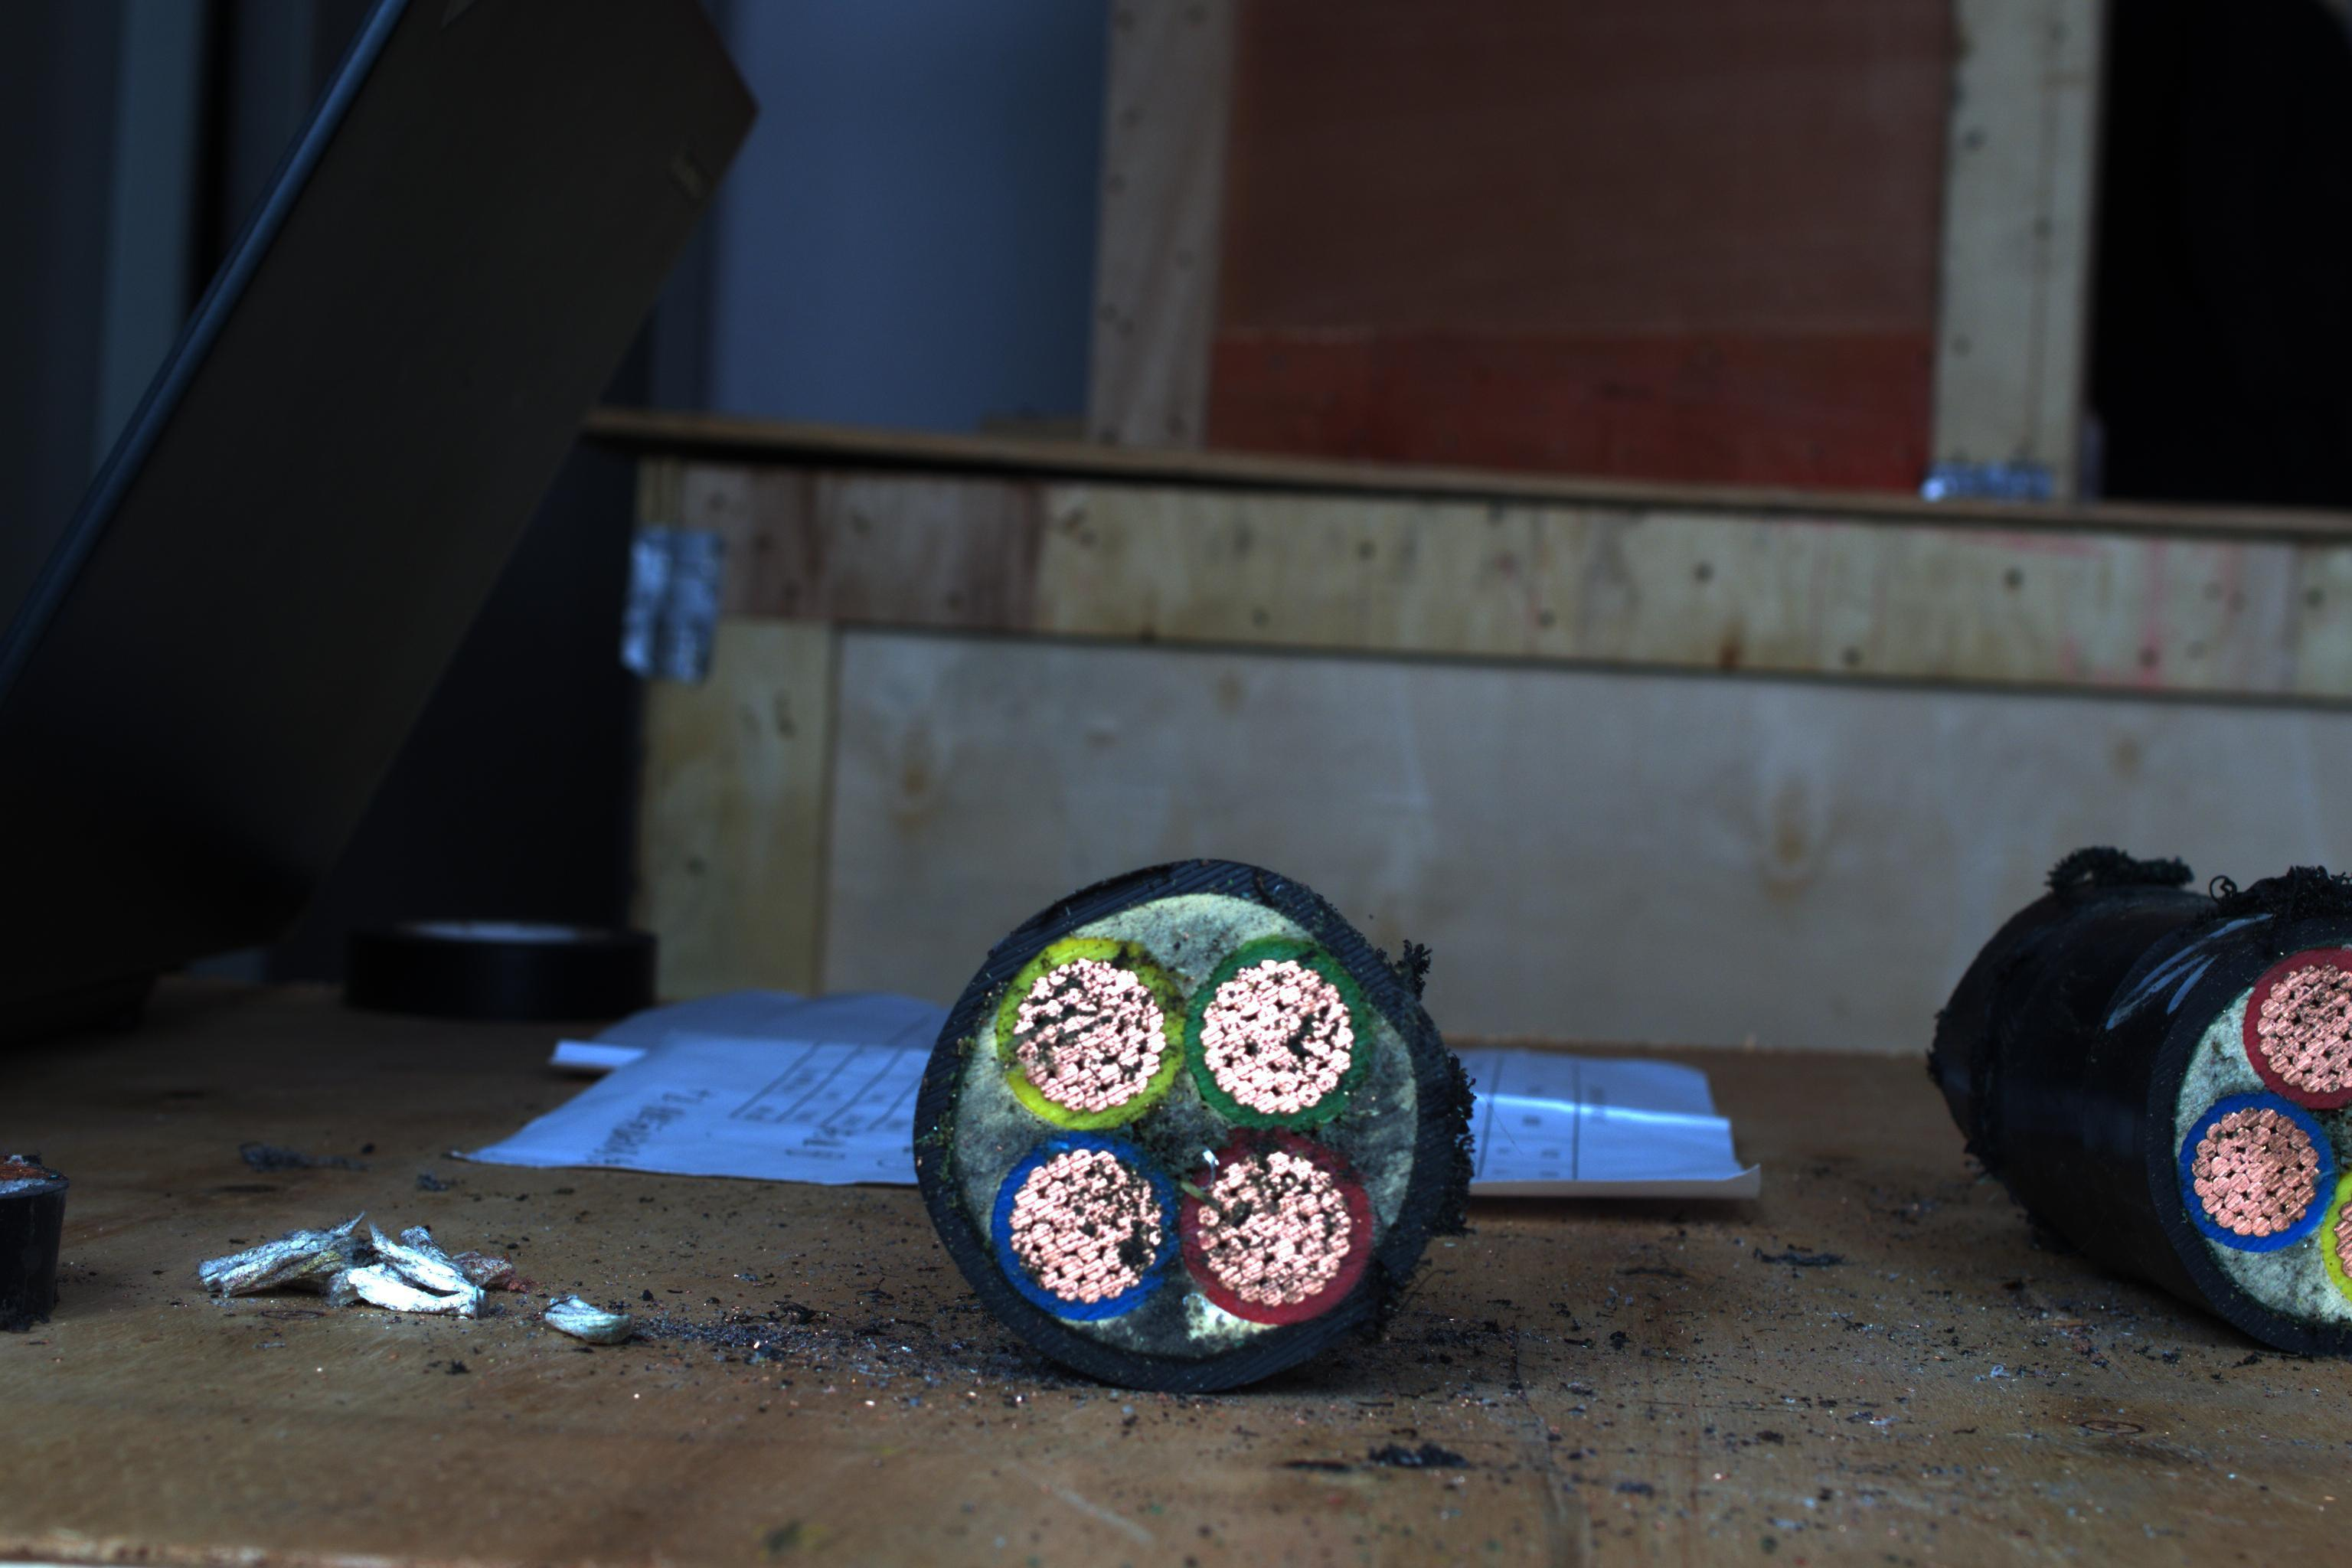YJV_0.6_1kV_4x185: (915, 864, 1449, 1374)
